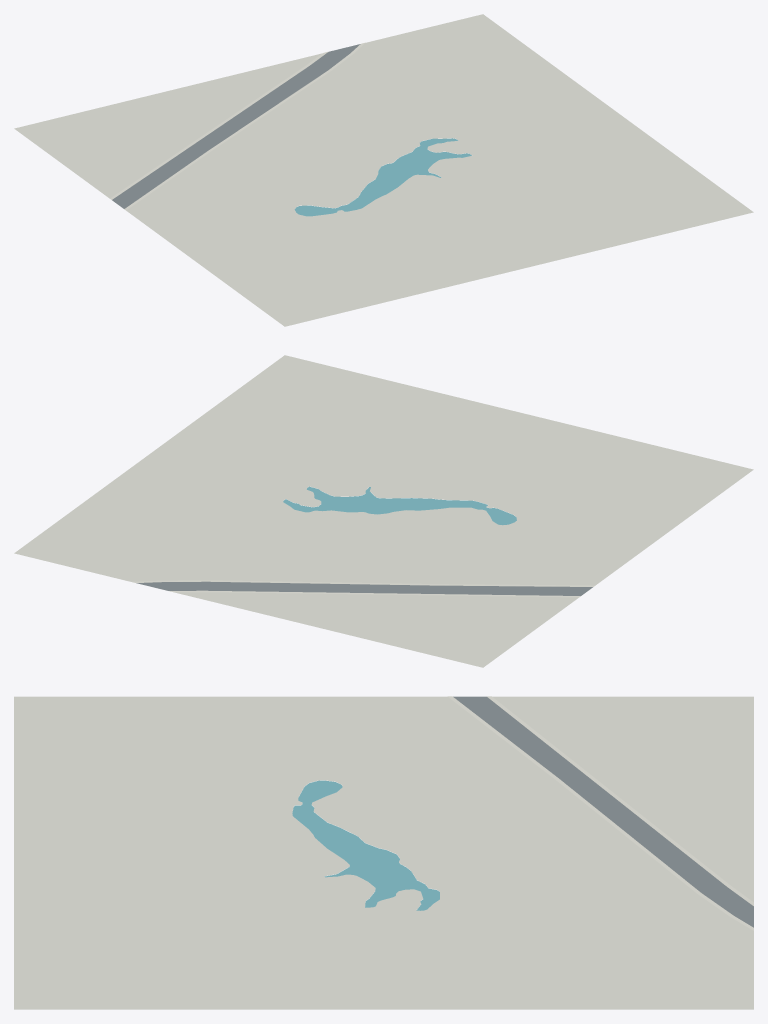
3 views of the same model, one above another, from view 1: azimuth 30°, elevation 25°; view 2: azimuth 150°, elevation 25°; view 3: azimuth 270°, elevation 25° (orthographic). The views are drawn at different scales.
Visible parts, largest first — view 1: city; view 2: city; view 3: city.
Boxes of the visible parts, x1,y1,x2,y2 form: city: (14, 14, 753, 326); city: (14, 355, 753, 667); city: (14, 696, 753, 1009).
Size of the model in its own units: 500 by 0.4 by 500.
